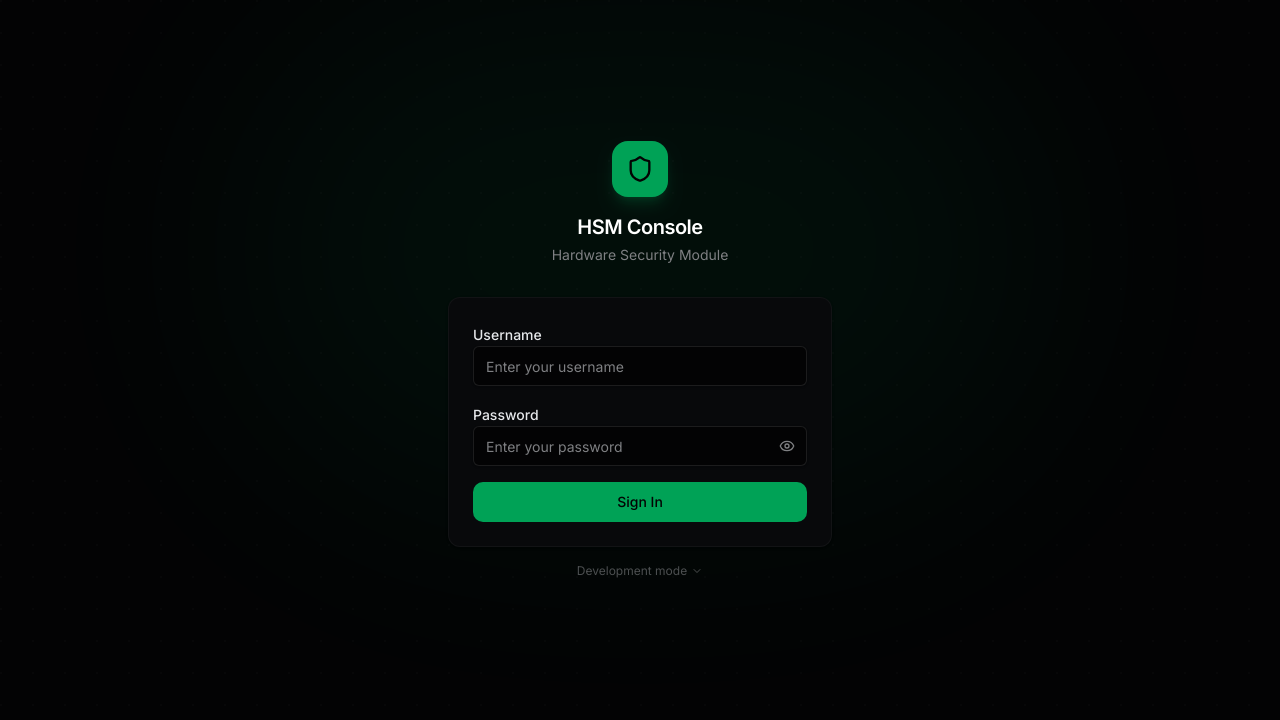
Test: Login Page › Form Validation › shows error when username is missing
Step 1. Type "somepassword" into the password field labelled "Password" → (640, 446), box [473,426,807,466]
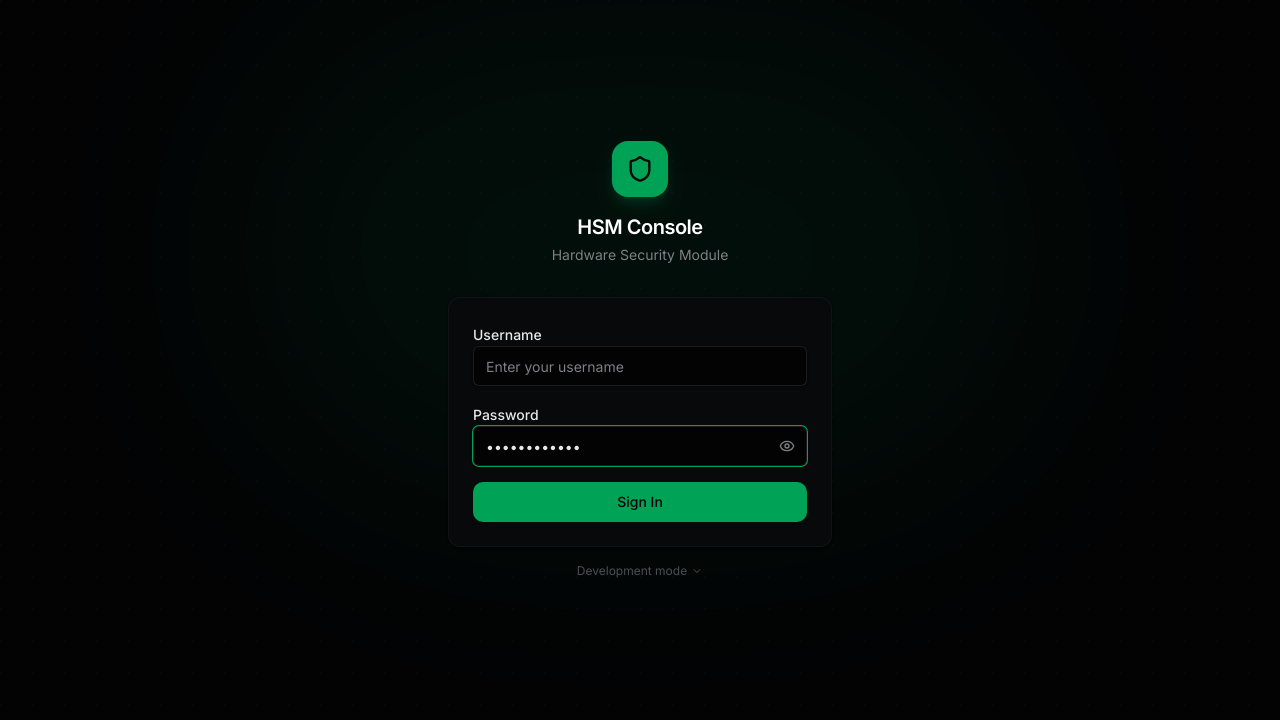
Step 2. Click the submit button → (640, 502), box [473,482,807,522]
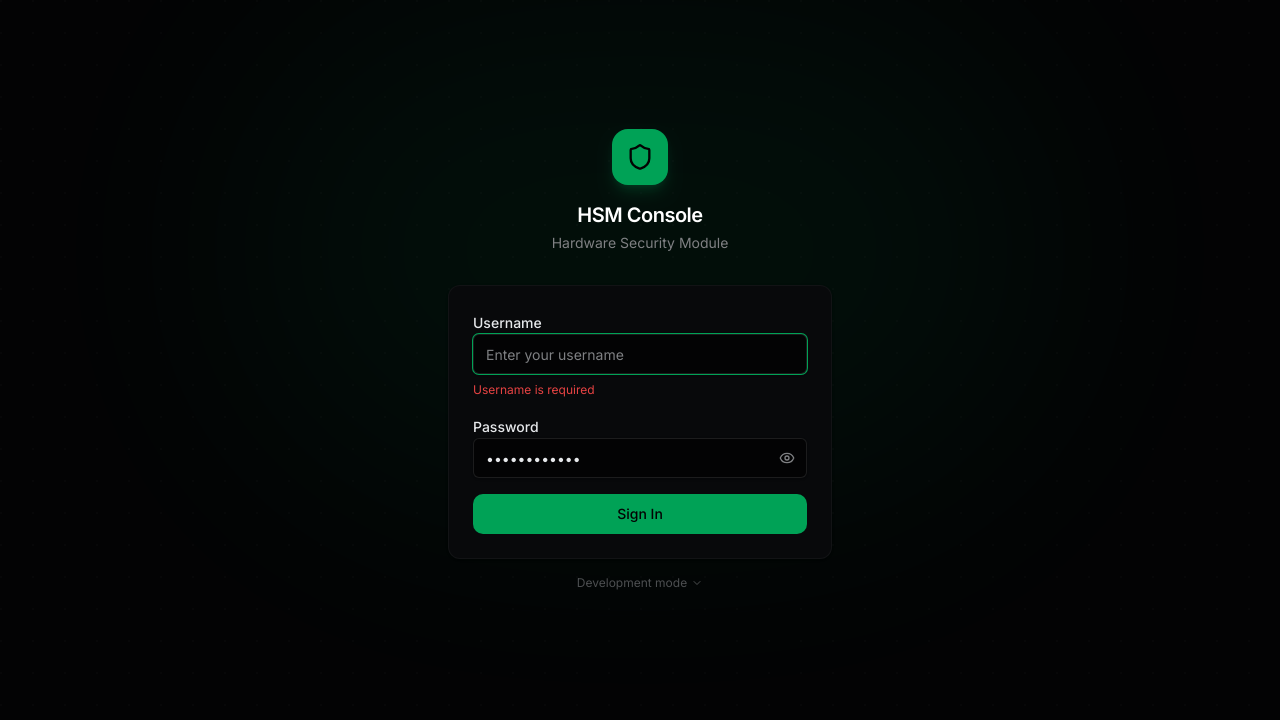
Now the text "Username is required" is shown, box [473,382,595,397]
